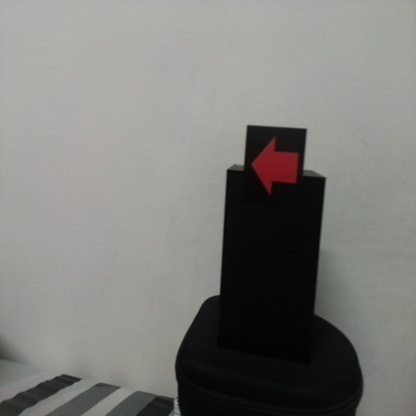id_4: (246, 126, 305, 208)
